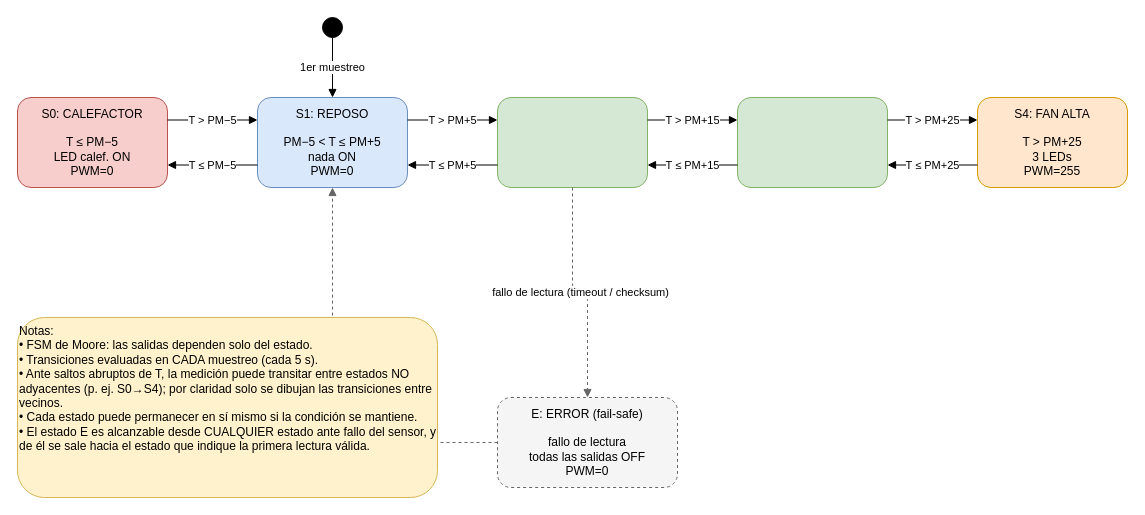
Some shapes in this 1145 by 515 pixel diagram are drawn without their labels. Here are the shapes that lost their labels. From the top down, the centre of each, then its label:
pixel 572 142: S2: FAN BAJA PM+5 < T ≤ PM+15 1 LED PWM=102
pixel 812 142: S3: FAN MEDIA PM+15 < T ≤ PM+25 2 LEDs PWM=178
